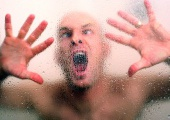male: (49, 7, 114, 92)
